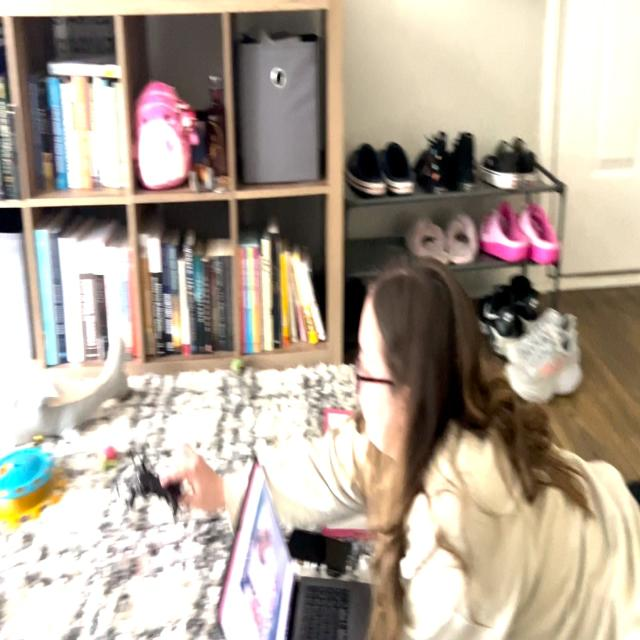drone: (112, 430, 197, 533)
